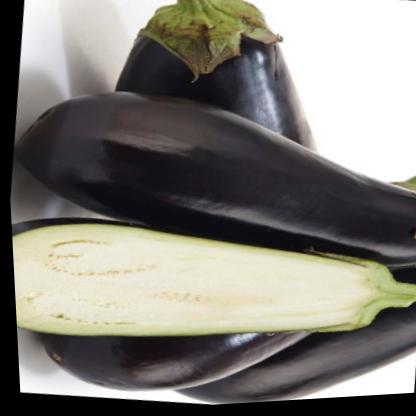--: (3, 49, 416, 298), (9, 199, 416, 385)
